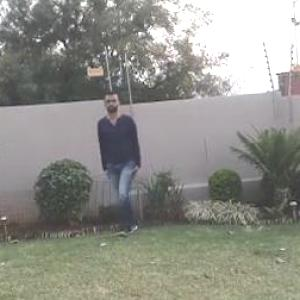follow: (98, 90, 148, 240)
